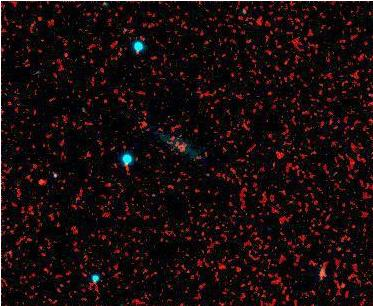star: (25, 165, 55, 195)
